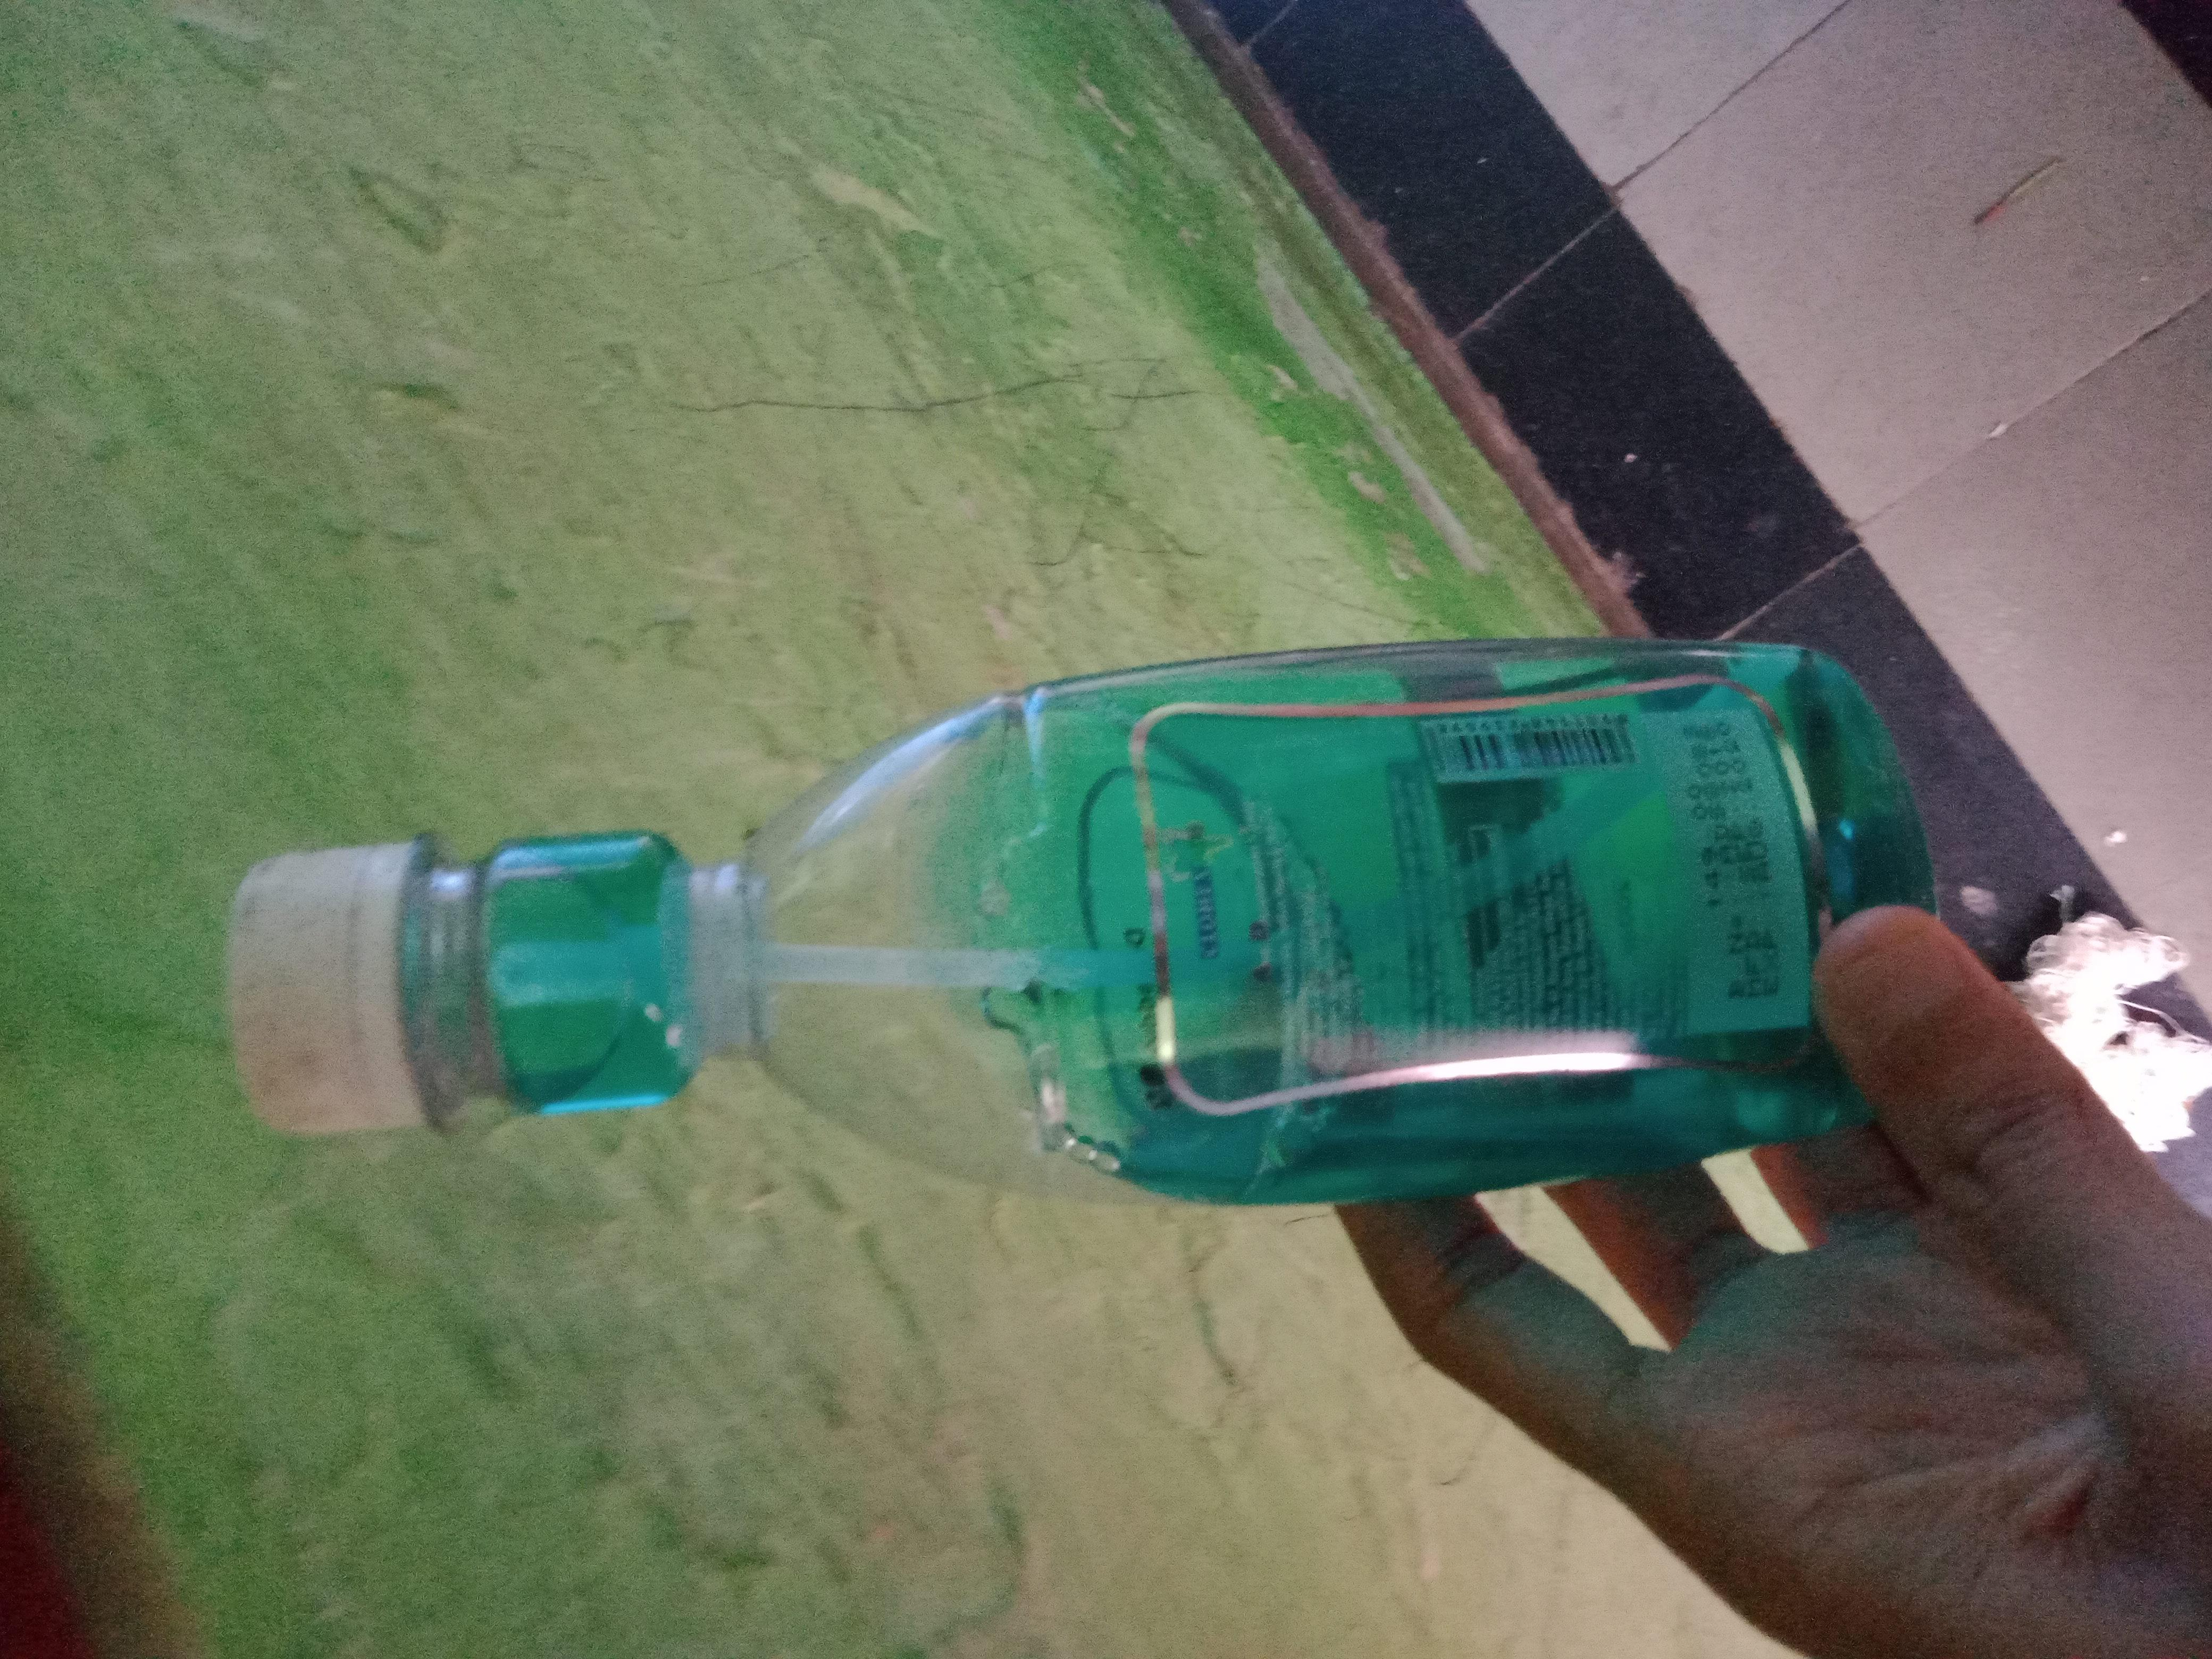bottle: (690, 3, 1357, 1344)
